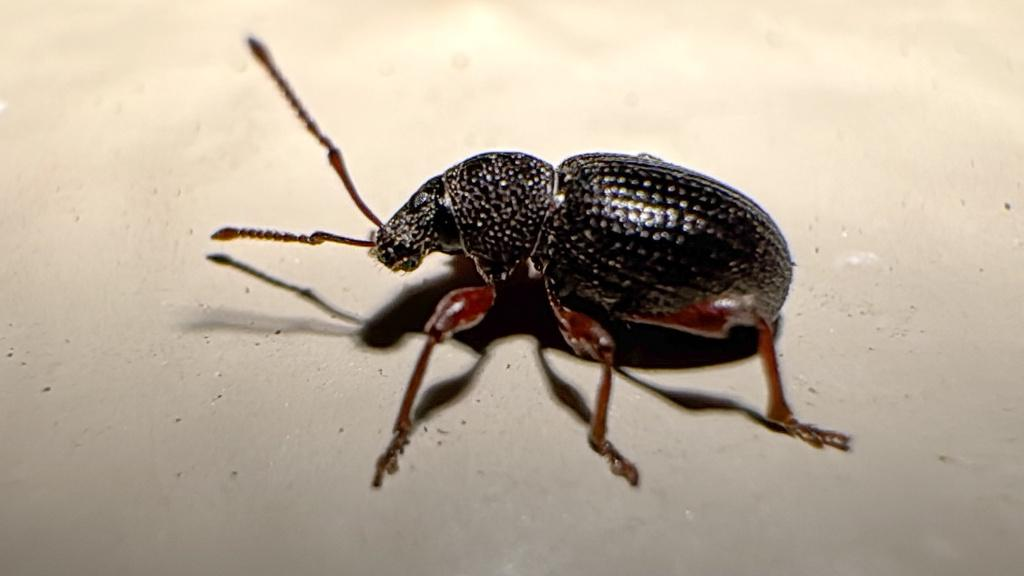weevils: (160, 0, 915, 554)
